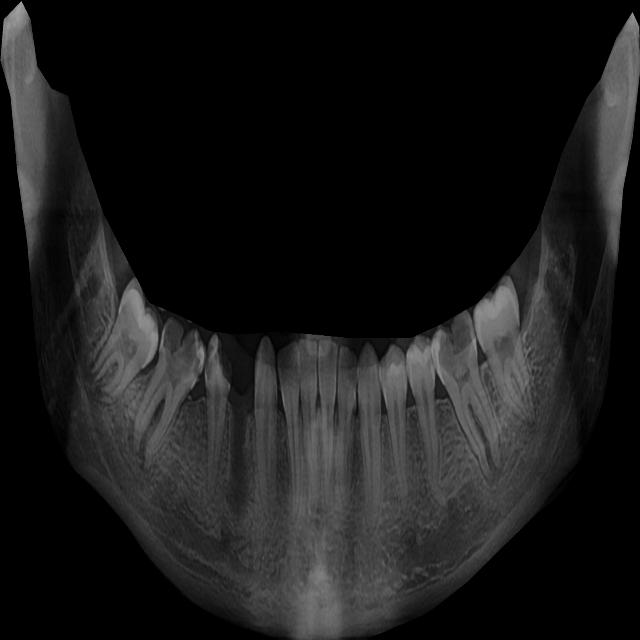mandibula: (0, 1, 640, 640)
